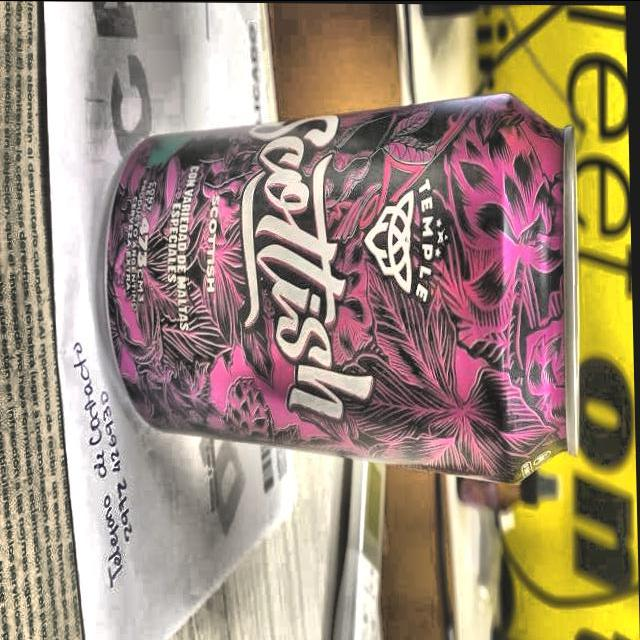Aluminum Can: (90, 80, 597, 487)
